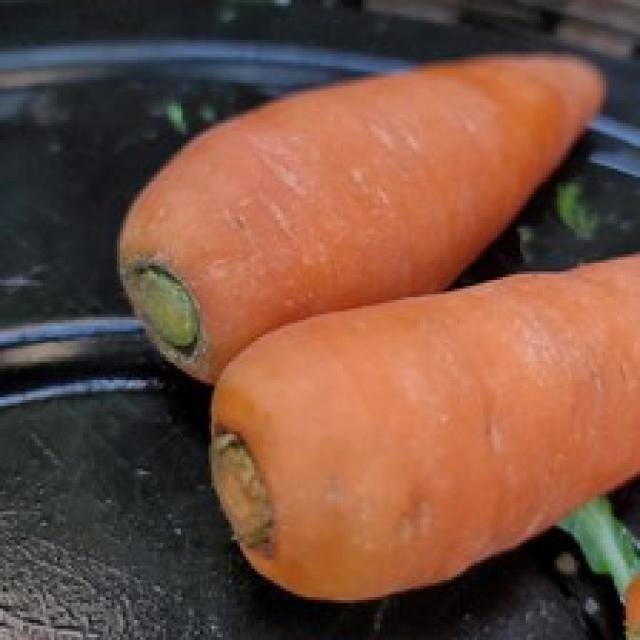Fresh_Carrot: (221, 252, 639, 560)
